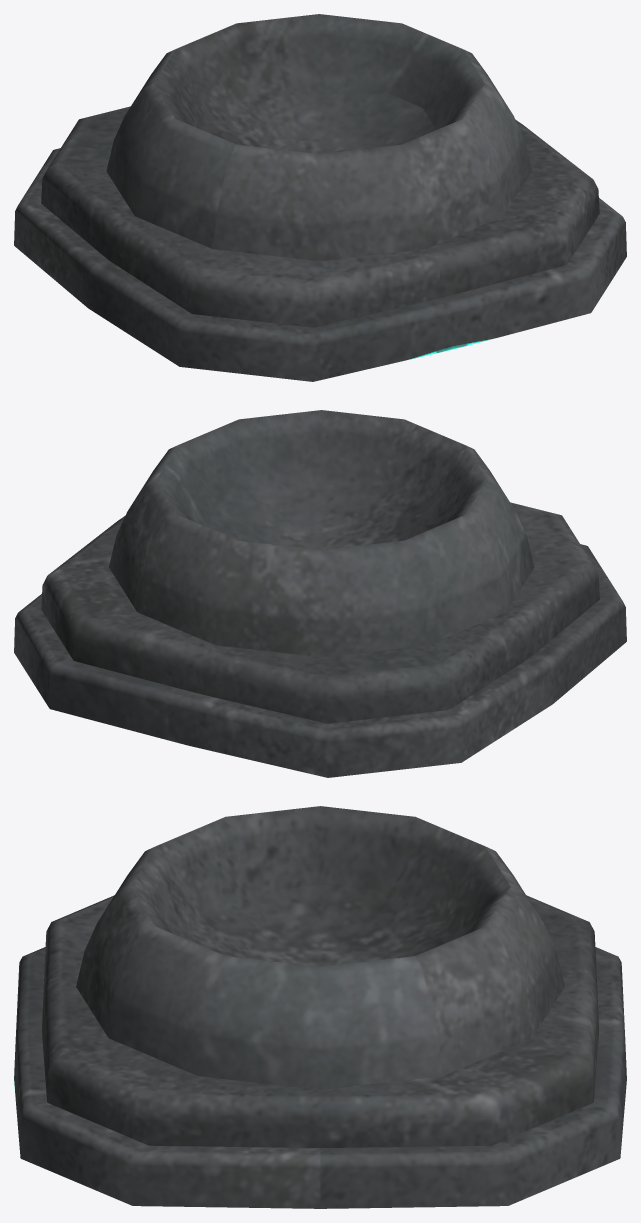
The model's file is LaserTowerBase.fbx.
3 renders of one model, top to bottom at view 1: azimuth 30°, elevation 25°; view 2: azimuth 150°, elevation 25°; view 3: azimuth 270°, elevation 25°, orthographic. The views are drawn at different scales.
Parts seen in each view (by area): view 1: LASERTOWER_Base; view 2: LASERTOWER_Base; view 3: LASERTOWER_Base.
Part boxes in pixels (bbox=[...]): LASERTOWER_Base: bbox=[14, 14, 626, 381]; LASERTOWER_Base: bbox=[14, 410, 626, 777]; LASERTOWER_Base: bbox=[14, 806, 626, 1208].
Bounding box in the file's own units: 6.03 × 2.09 × 6.03.
1 material, 1 textured.
